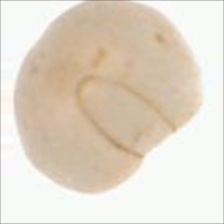L5: (73, 73, 176, 160)
L6: (11, 1, 206, 196)
